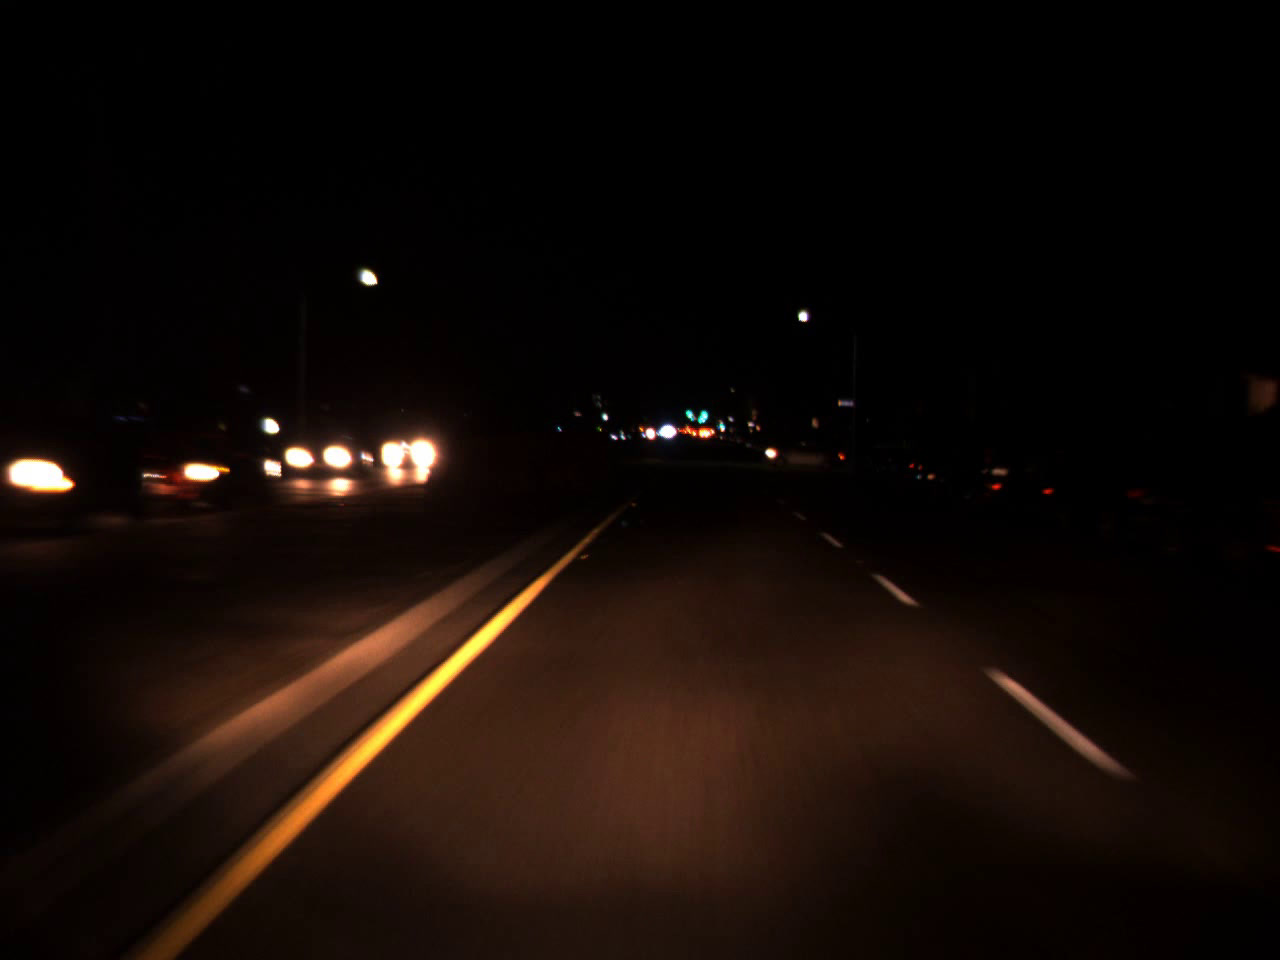go: (693, 395, 709, 428), (683, 403, 693, 418), (718, 418, 725, 430)
